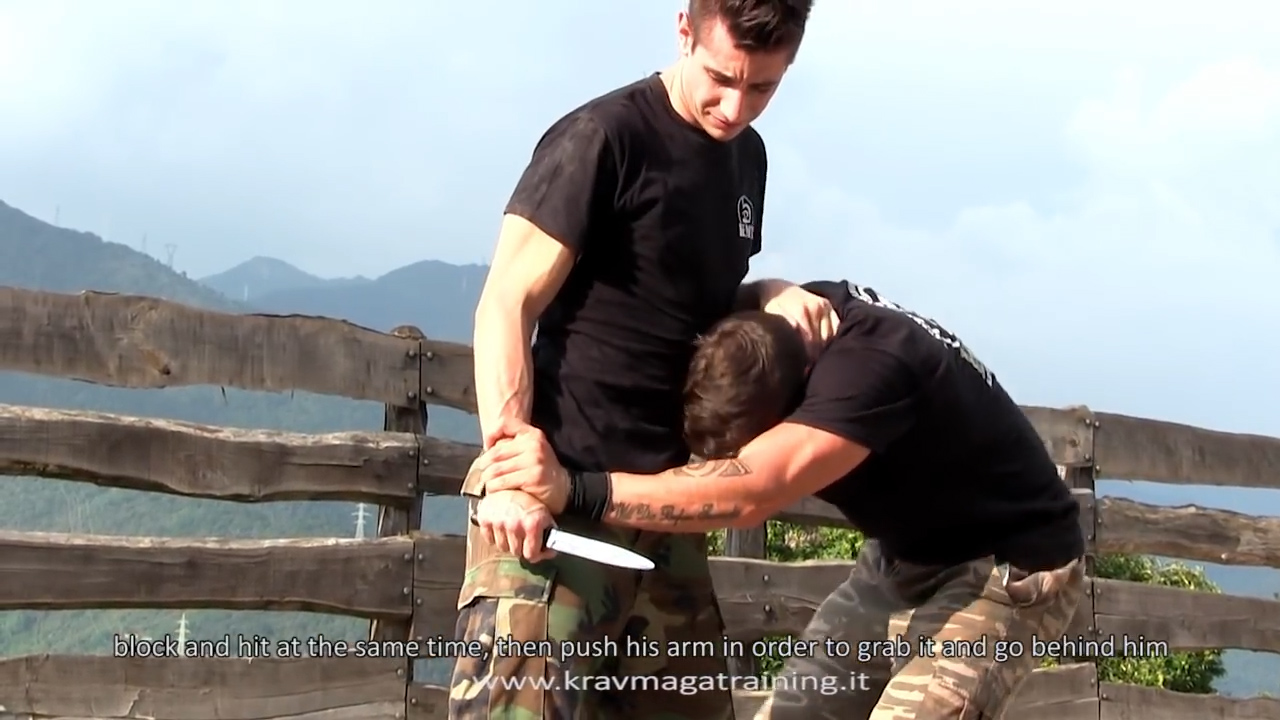knife: (461, 491, 662, 579)
